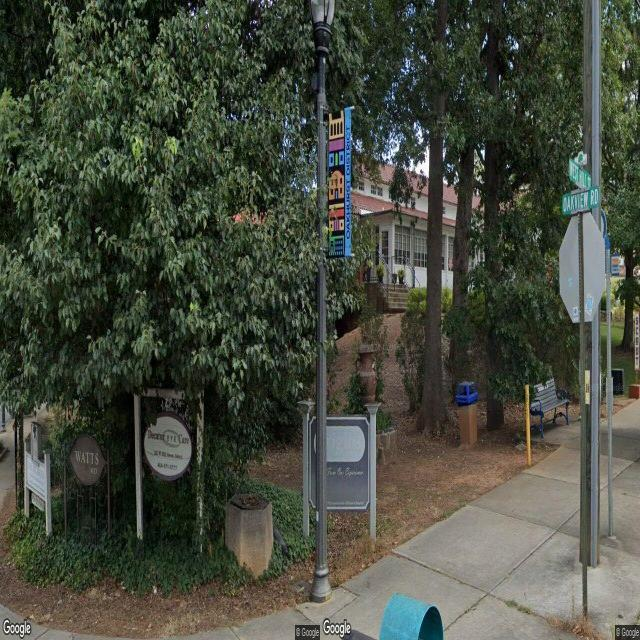seating: (527, 376, 569, 438)
trash_can: (224, 494, 274, 578), (456, 381, 478, 444)
